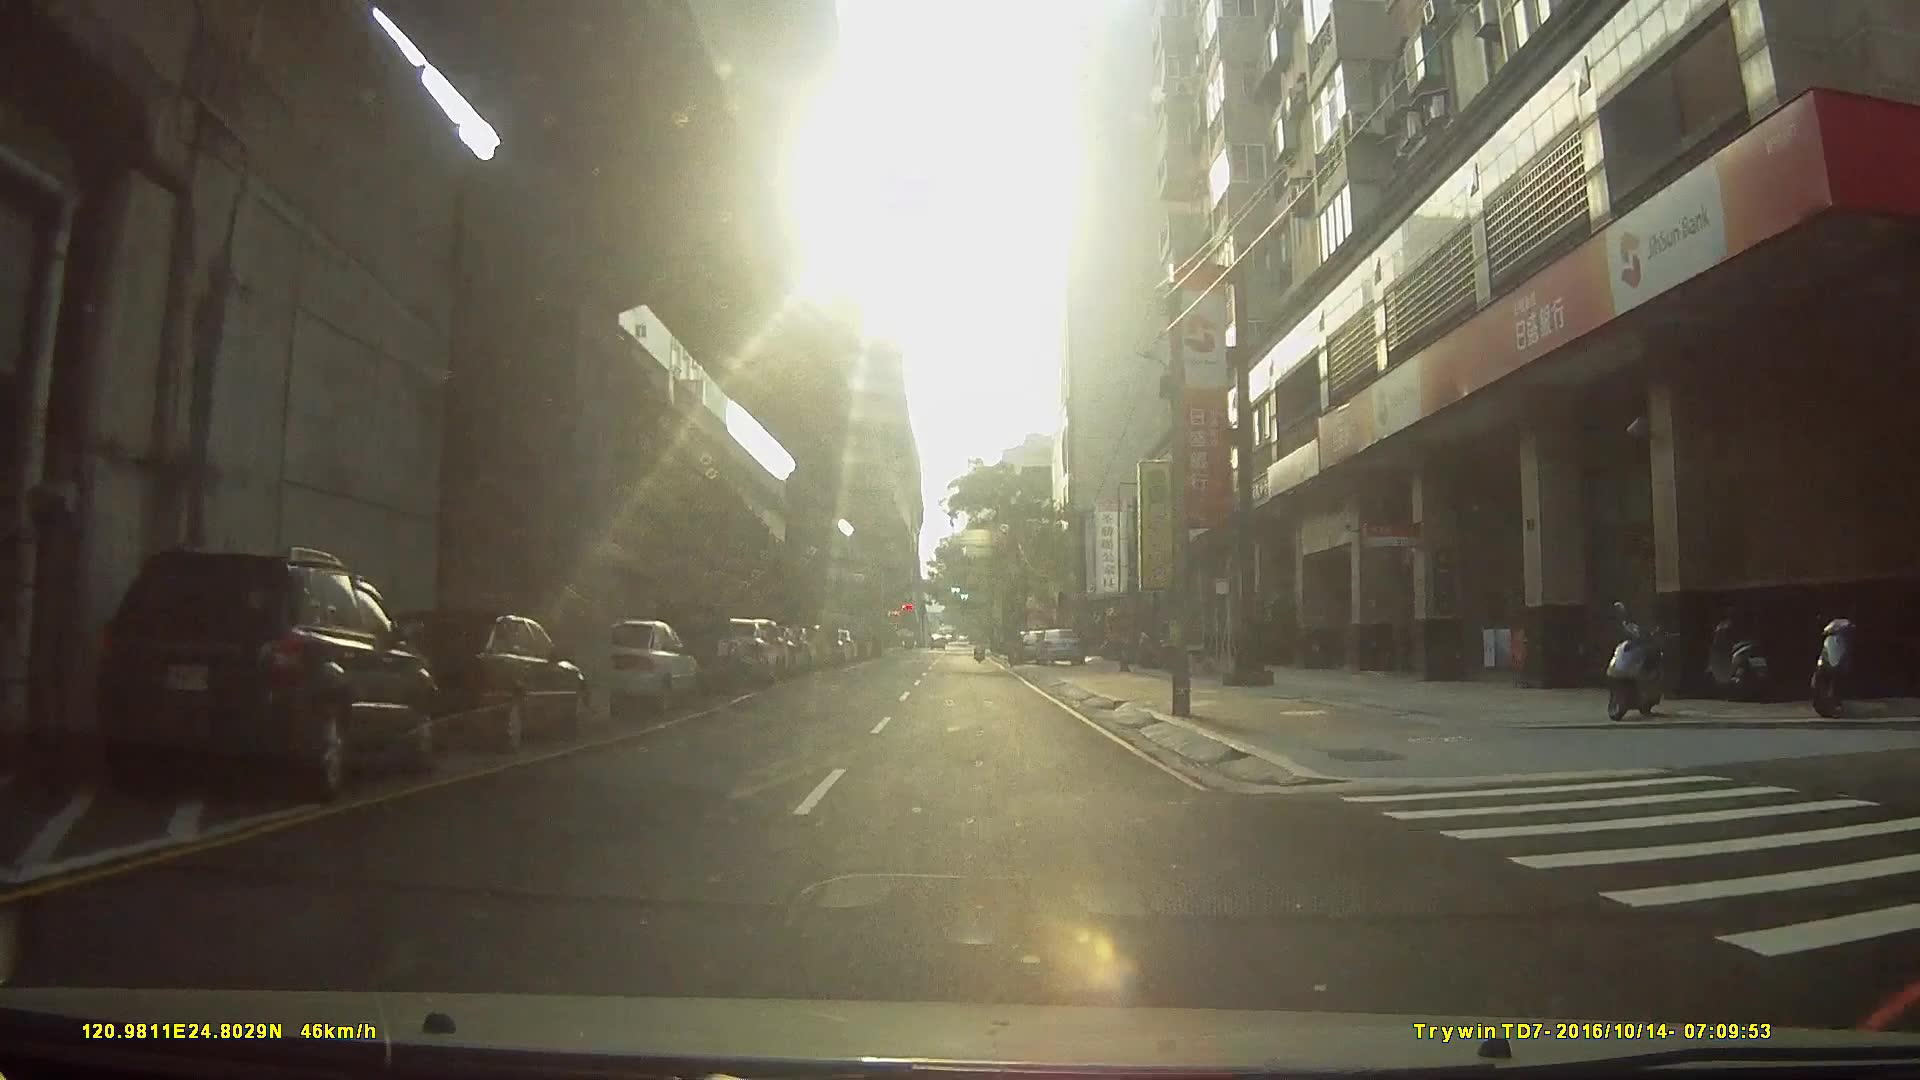vehicle: (94, 545, 435, 804), (376, 609, 589, 753), (589, 618, 705, 720), (647, 600, 738, 698), (659, 620, 794, 670), (1030, 625, 1084, 669)
